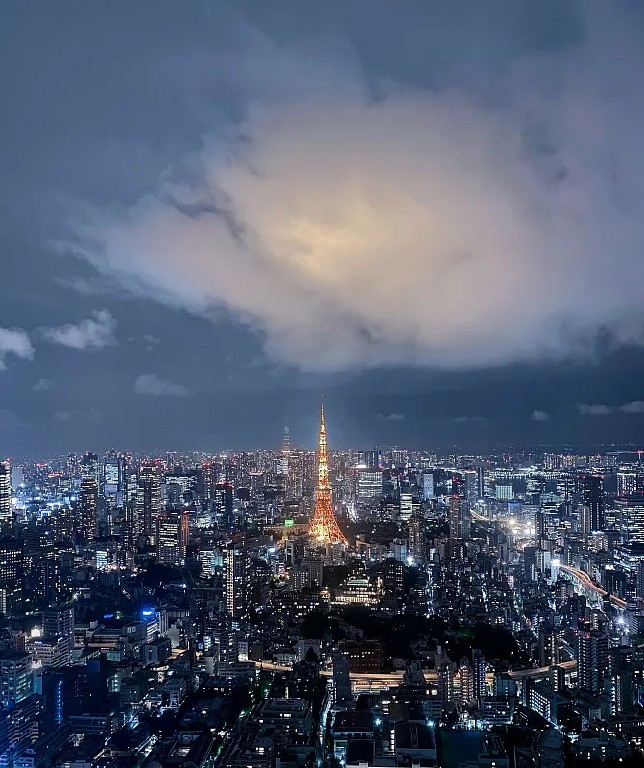Tokyo: (301, 398, 353, 547)
